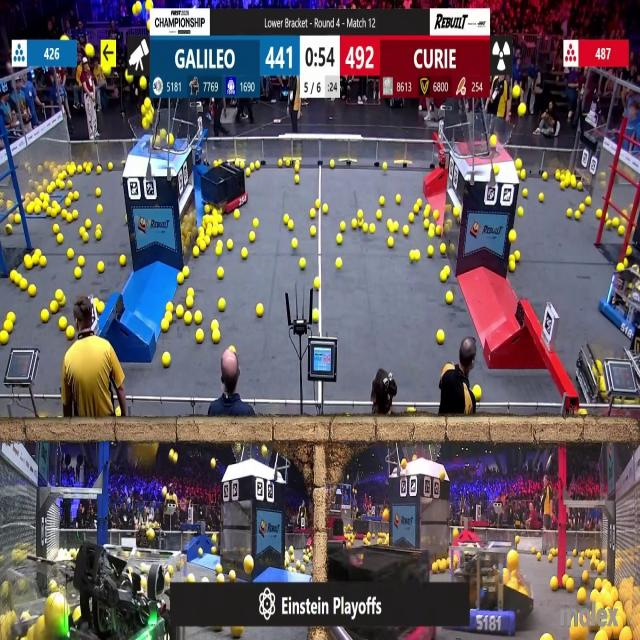ball_airborne: (139, 444, 157, 466), (87, 44, 95, 56), (102, 65, 110, 76), (134, 2, 142, 13), (519, 104, 526, 116), (490, 136, 497, 148), (514, 88, 521, 100), (140, 76, 147, 88), (210, 458, 217, 469), (144, 98, 150, 110), (172, 452, 178, 464), (147, 529, 154, 539), (142, 117, 148, 128), (145, 111, 152, 120), (146, 1, 153, 10), (492, 166, 499, 175), (154, 136, 160, 146), (263, 446, 269, 456), (500, 98, 506, 107), (169, 135, 174, 145), (161, 131, 167, 139), (164, 487, 168, 497)
ball_ground: (244, 557, 254, 575), (233, 626, 244, 639), (0, 332, 9, 346), (164, 352, 172, 367), (472, 386, 480, 400), (577, 590, 585, 604), (56, 289, 64, 302), (551, 577, 559, 590), (176, 306, 184, 319), (566, 580, 574, 593), (41, 310, 49, 322), (312, 310, 320, 322), (49, 302, 57, 314), (60, 318, 68, 330), (184, 313, 192, 325), (438, 332, 446, 344), (255, 305, 262, 318), (67, 326, 74, 339), (195, 331, 202, 344), (26, 258, 33, 271), (446, 291, 454, 302), (212, 333, 220, 344), (18, 279, 26, 290), (9, 272, 17, 283), (5, 321, 13, 332), (193, 312, 200, 324), (314, 278, 321, 290), (217, 268, 224, 280), (218, 300, 225, 312), (74, 269, 82, 279), (211, 320, 219, 330), (185, 296, 192, 307), (163, 320, 170, 331), (177, 274, 184, 285), (29, 285, 36, 296), (98, 303, 105, 314), (510, 232, 517, 243), (200, 241, 207, 252), (583, 570, 590, 581), (119, 254, 125, 266), (299, 257, 305, 269), (619, 224, 626, 234), (7, 312, 14, 322), (507, 263, 514, 273), (49, 208, 56, 218), (99, 263, 105, 274), (402, 224, 408, 235), (242, 248, 248, 259), (68, 249, 74, 260), (78, 255, 84, 266), (58, 234, 64, 245), (442, 244, 448, 255), (337, 257, 343, 268), (67, 180, 74, 189), (166, 313, 173, 322), (62, 210, 69, 219), (226, 240, 232, 250), (82, 234, 88, 244), (388, 238, 394, 248), (249, 233, 255, 243), (235, 210, 241, 220), (40, 256, 46, 266), (292, 240, 298, 250), (380, 197, 386, 207), (341, 221, 347, 231), (192, 247, 198, 257), (362, 222, 368, 232), (442, 272, 448, 282), (432, 210, 438, 220), (516, 251, 522, 261), (310, 226, 316, 236), (428, 230, 434, 240), (72, 210, 78, 220), (216, 564, 222, 574), (618, 264, 624, 274), (520, 170, 526, 180), (414, 250, 420, 260), (6, 224, 12, 234), (231, 570, 237, 580), (252, 218, 258, 228), (388, 220, 394, 230), (454, 207, 460, 217), (212, 225, 218, 235), (596, 580, 602, 590), (449, 244, 455, 254), (453, 528, 459, 538), (517, 160, 523, 170), (556, 171, 562, 181), (591, 590, 597, 600), (217, 574, 224, 582), (167, 304, 174, 312), (518, 208, 525, 216), (187, 574, 194, 582), (611, 218, 618, 226), (34, 249, 41, 257), (27, 206, 34, 214), (578, 410, 585, 418), (203, 575, 210, 583), (596, 633, 604, 640), (428, 246, 433, 257), (322, 204, 328, 213), (596, 210, 602, 219), (284, 214, 290, 223), (352, 219, 358, 228), (377, 211, 383, 220), (310, 209, 316, 218), (96, 187, 102, 196), (66, 199, 72, 208), (541, 634, 550, 640), (87, 219, 93, 228), (627, 247, 633, 256), (42, 201, 48, 210), (218, 224, 223, 234), (410, 213, 415, 223), (338, 235, 343, 245), (567, 208, 572, 218), (288, 220, 293, 230), (435, 225, 440, 235), (393, 221, 398, 231), (183, 268, 188, 278), (187, 288, 193, 296), (538, 192, 544, 200), (357, 210, 363, 218), (523, 188, 529, 196), (115, 410, 121, 418), (67, 214, 73, 222), (566, 560, 572, 568), (35, 206, 41, 214), (205, 206, 211, 214), (231, 346, 237, 354), (254, 163, 260, 171), (414, 206, 420, 214), (50, 201, 56, 209), (246, 170, 252, 178), (369, 223, 374, 232), (216, 247, 221, 256), (14, 215, 19, 224), (217, 214, 222, 223), (55, 224, 60, 233), (541, 173, 547, 180), (97, 232, 102, 240), (396, 192, 400, 202), (316, 201, 321, 209), (98, 206, 103, 214), (587, 198, 592, 206), (560, 182, 565, 190), (574, 212, 579, 220), (424, 210, 429, 218), (61, 181, 66, 189), (576, 182, 581, 190), (212, 208, 217, 216), (299, 566, 304, 574), (284, 560, 289, 568), (294, 165, 299, 173), (624, 258, 629, 266), (424, 219, 428, 228), (96, 224, 102, 230), (279, 158, 283, 167), (571, 551, 577, 557), (88, 169, 94, 175), (108, 164, 113, 171), (294, 176, 299, 183), (212, 546, 217, 553), (383, 164, 388, 171), (579, 205, 584, 212), (79, 226, 84, 233), (547, 556, 552, 563), (417, 200, 422, 207), (204, 215, 209, 222), (517, 535, 521, 543), (98, 167, 102, 175), (74, 191, 78, 199), (329, 162, 333, 170), (200, 550, 204, 558), (295, 561, 299, 569), (578, 559, 582, 566), (536, 554, 540, 561), (289, 545, 293, 552), (532, 546, 536, 552)
goal: (460, 118, 516, 159), (128, 118, 186, 152)
robot_blue: (450, 542, 525, 634), (602, 268, 640, 342)
robot_red: (356, 544, 454, 638), (204, 159, 248, 212)
